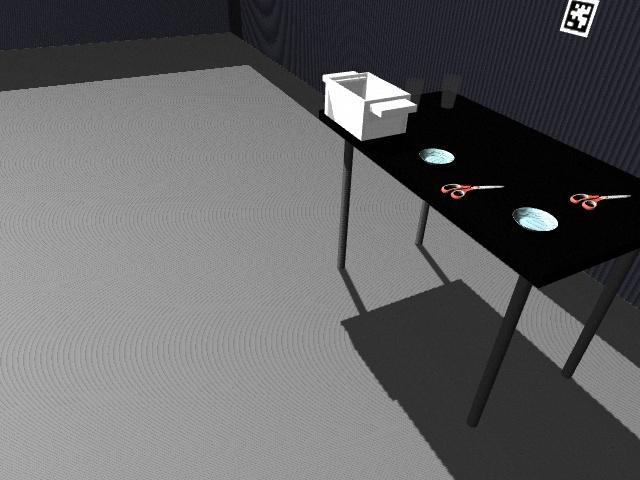cup: (441, 73, 463, 109), (404, 76, 425, 109)
plate: (511, 206, 561, 232), (418, 147, 456, 165)
scissors: (570, 192, 632, 210), (442, 183, 504, 200)
